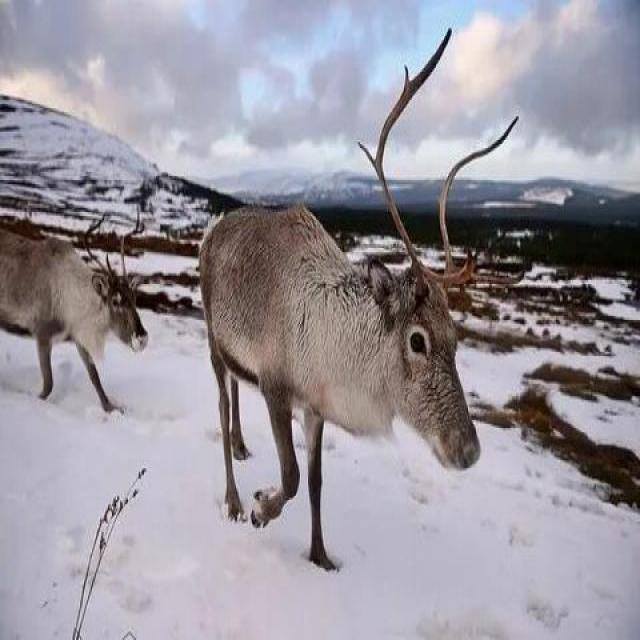deer: (153, 63, 492, 564)
